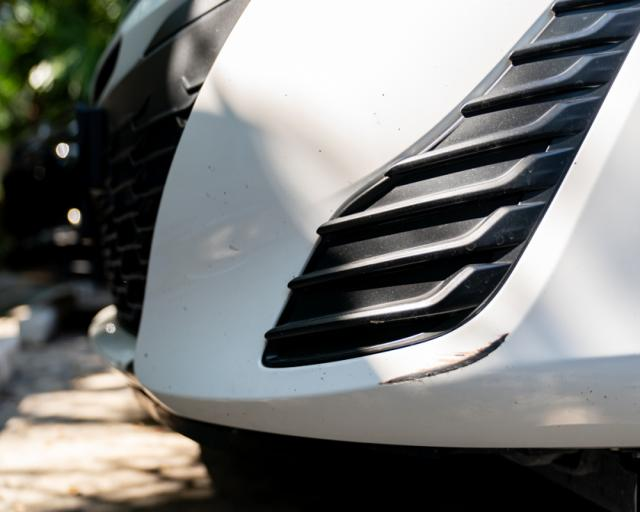scratch: (368, 326, 510, 389)
